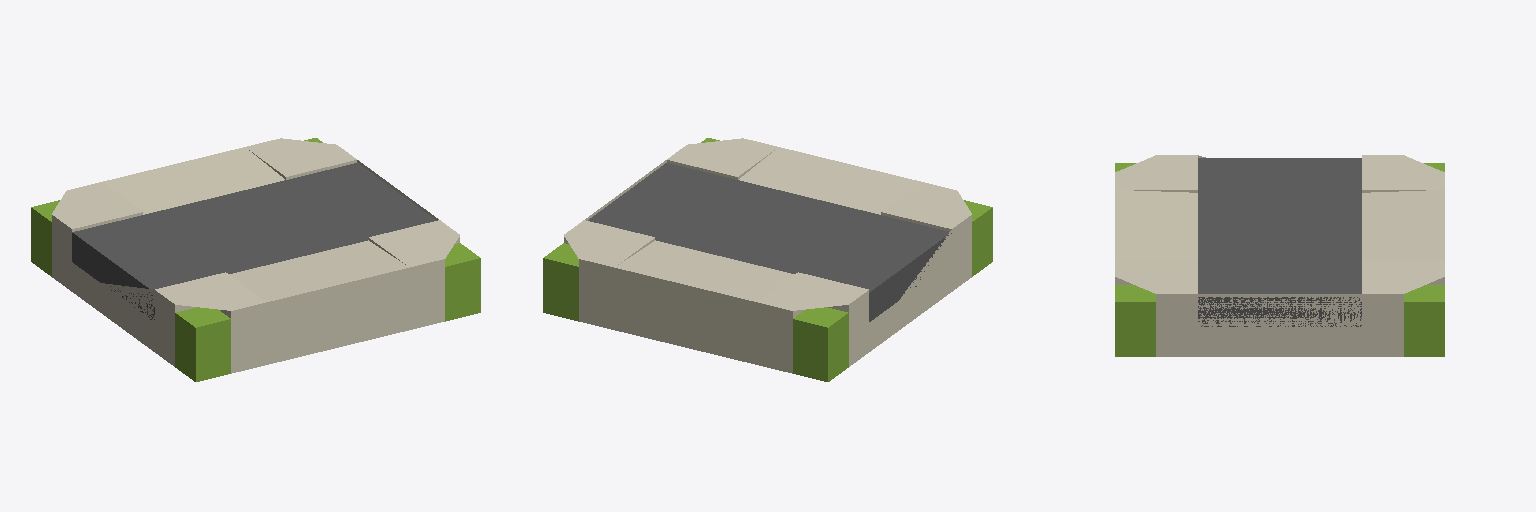
The model's file is roadTile_142.obj.
The picture shows the model from 3 angles: view 1: azimuth 30°, elevation 25°; view 2: azimuth 150°, elevation 25°; view 3: azimuth 270°, elevation 25°; orthographic projection.
Visible parts, largest first — view 1: Mesh1_Group1_Model.001; view 2: Mesh1_Group1_Model.001; view 3: Mesh1_Group1_Model.001.
Boxes of the visible parts, box(x1,y1,x2,y2) form: Mesh1_Group1_Model.001: box(31, 138, 480, 381); Mesh1_Group1_Model.001: box(543, 138, 992, 381); Mesh1_Group1_Model.001: box(1115, 155, 1444, 356).
Bounding box in the file's own units: 1.05 × 0.2205 × 1.05.